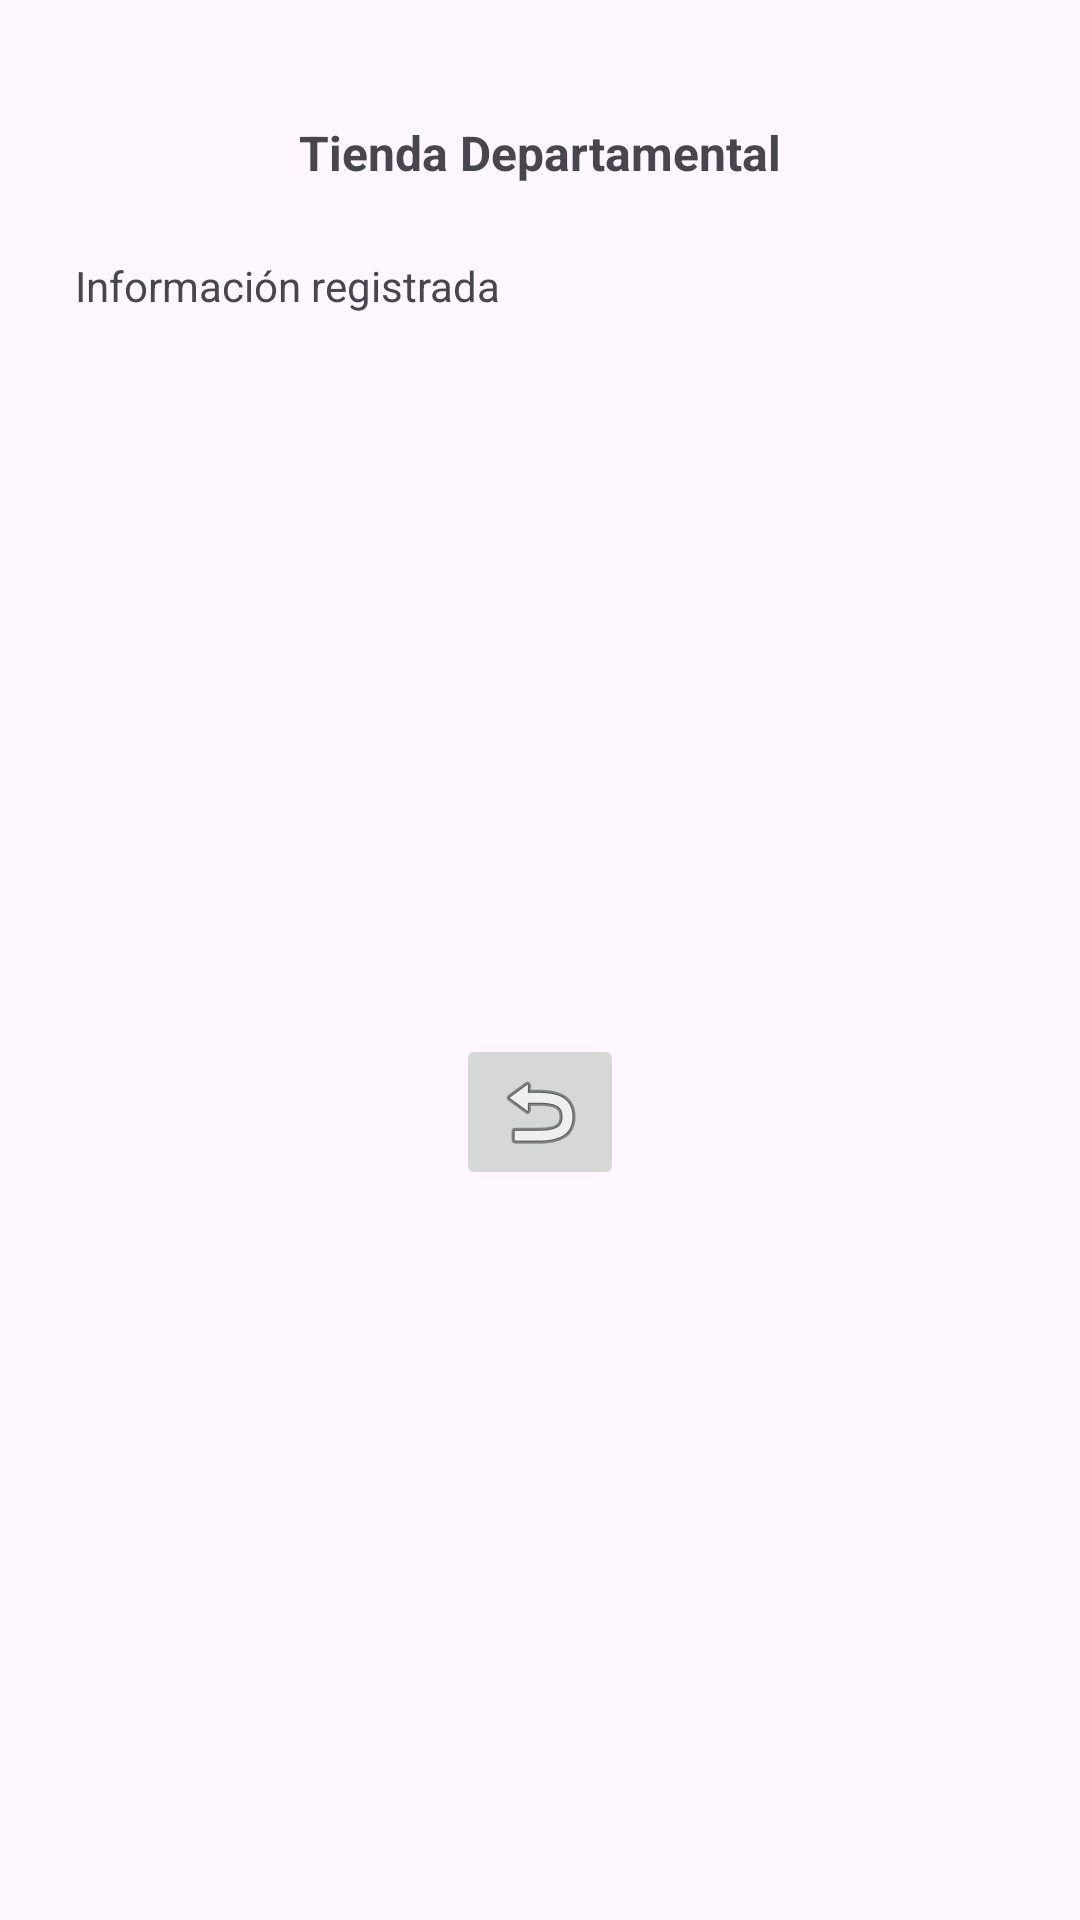

Named icons in this screenshot (1080×1920) and their bounding boxes, (x1, y1, x2, y2):
revert: (468, 1052, 612, 1172)
